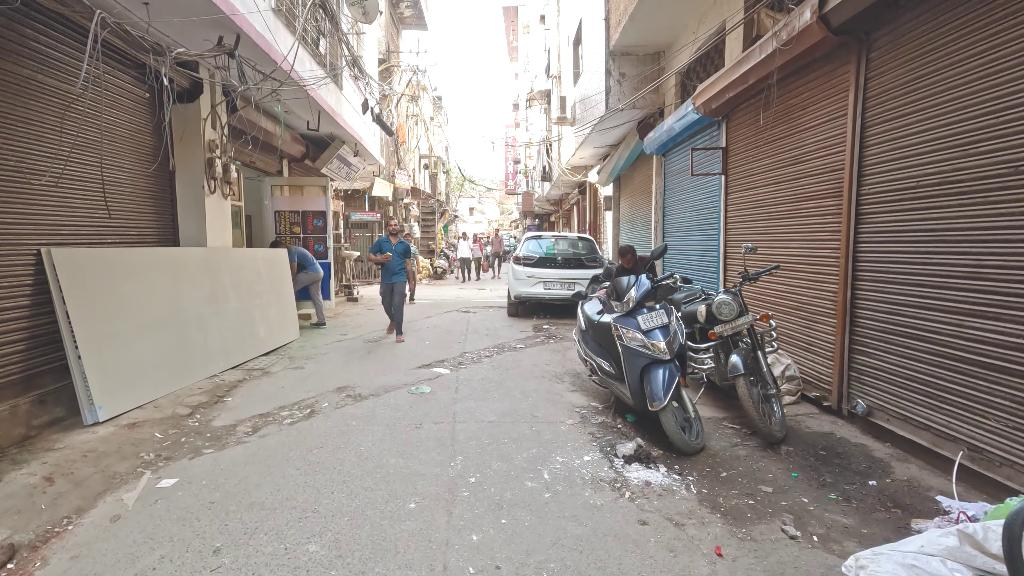garbage: (843, 491, 1021, 576)
